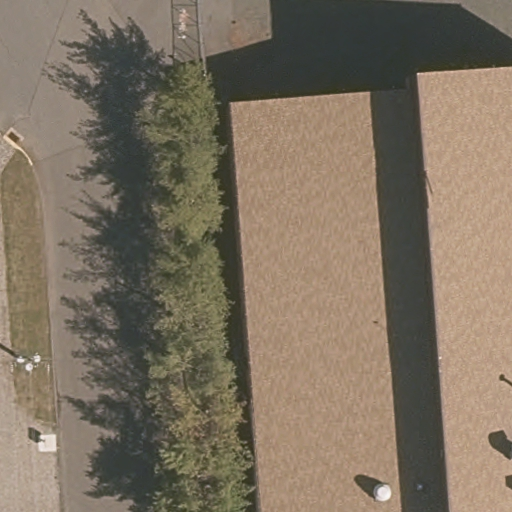DT: (6, 346, 54, 380)
